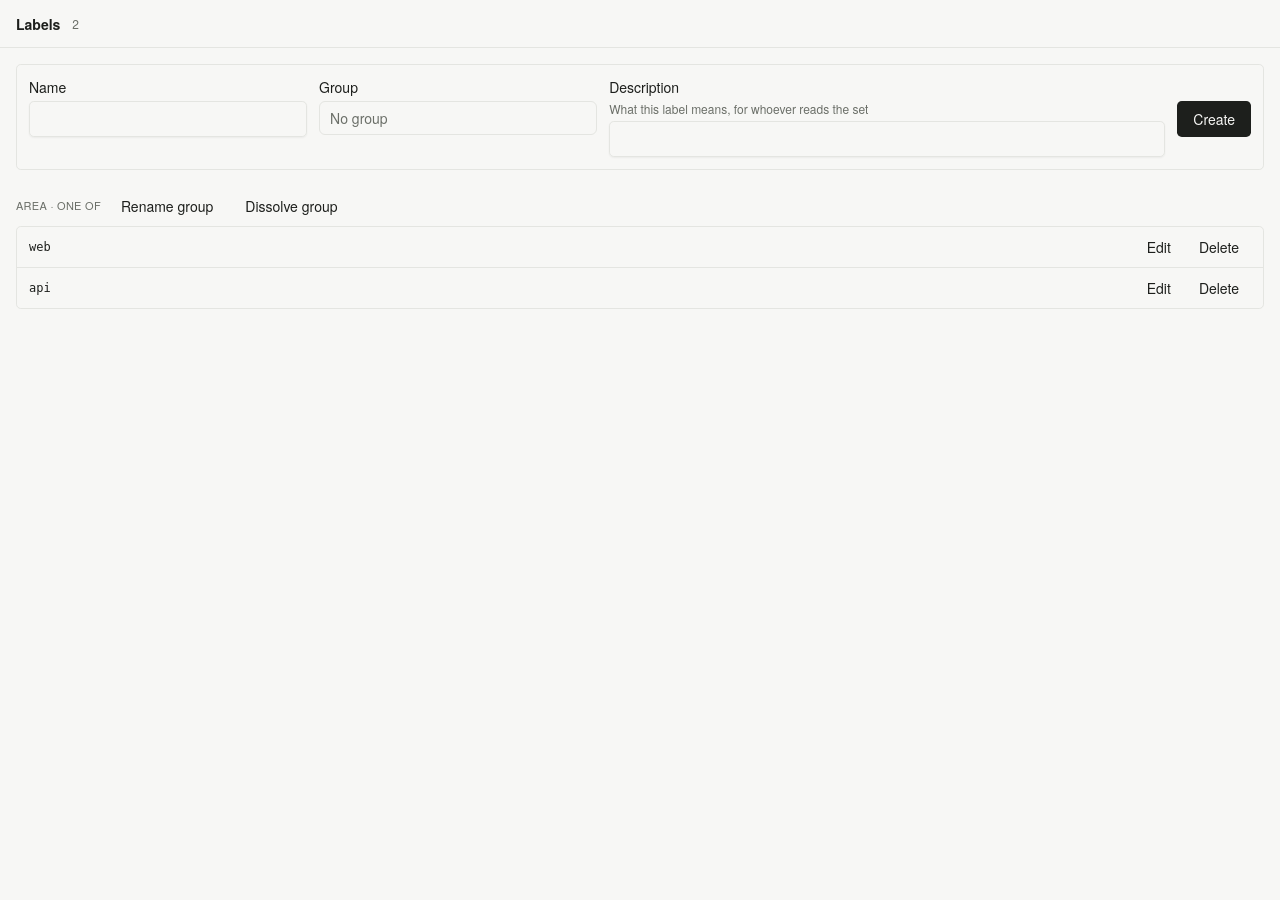
it: dissolves a group by writing every label in it, and says what did not go through
Click the button "Dissolve group" at (291, 206), box top-left (233, 190), bottom-right (350, 222)
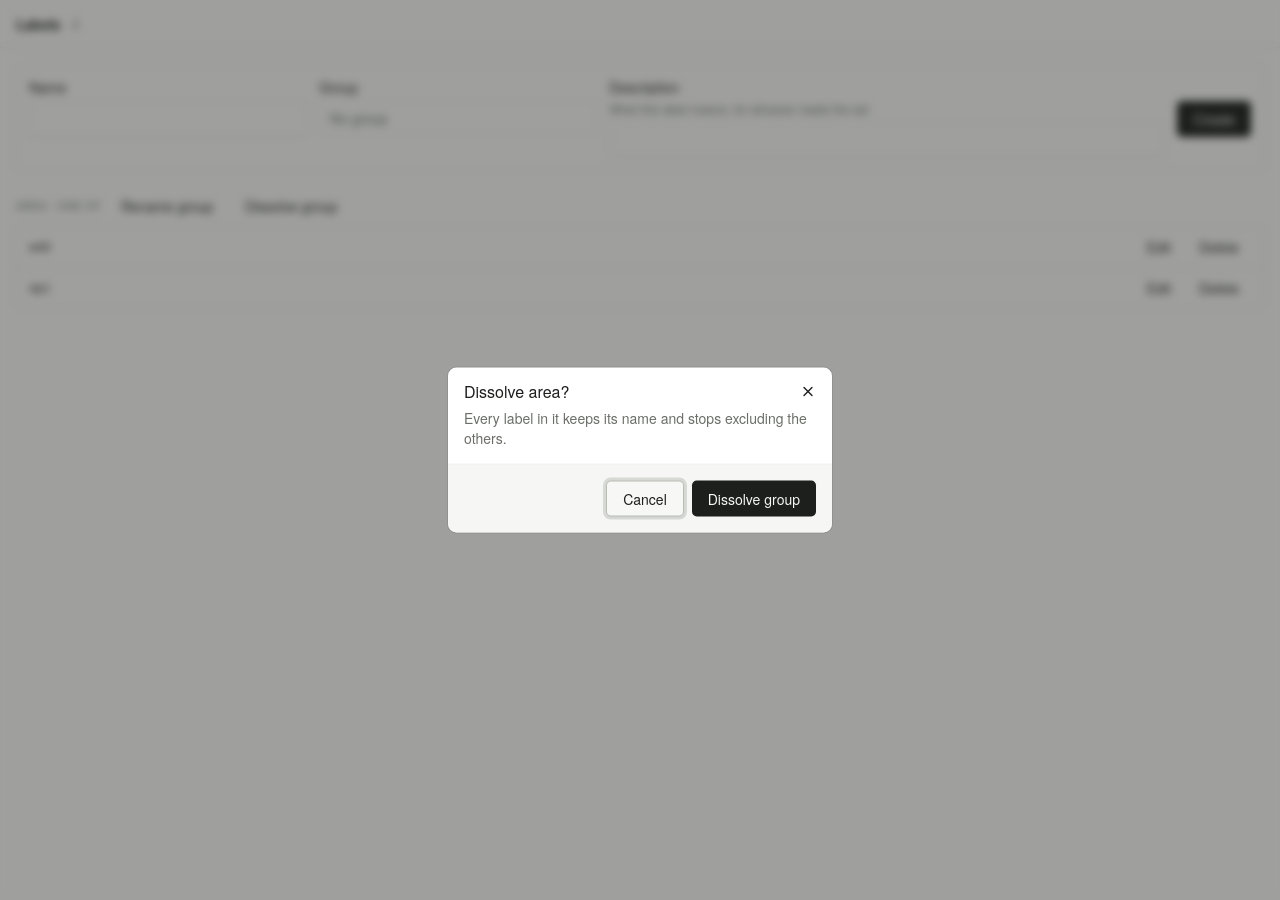
Click the button "Dissolve group" at (754, 498), box top-left (692, 480), bottom-right (816, 516)
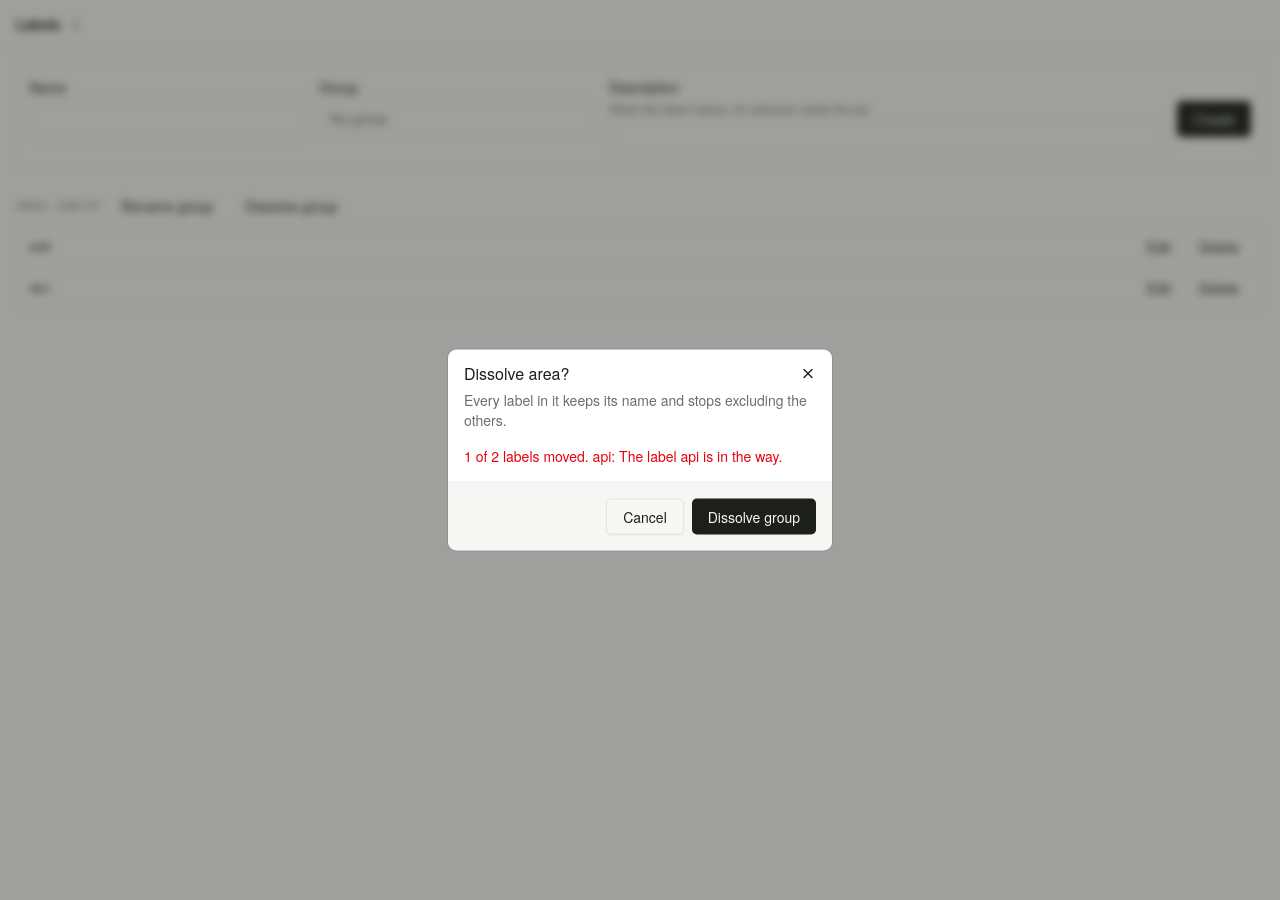
Now the message reads "1 of 2 labels moved. api: The label api is in the way.", box top-left (464, 446), bottom-right (782, 466)
